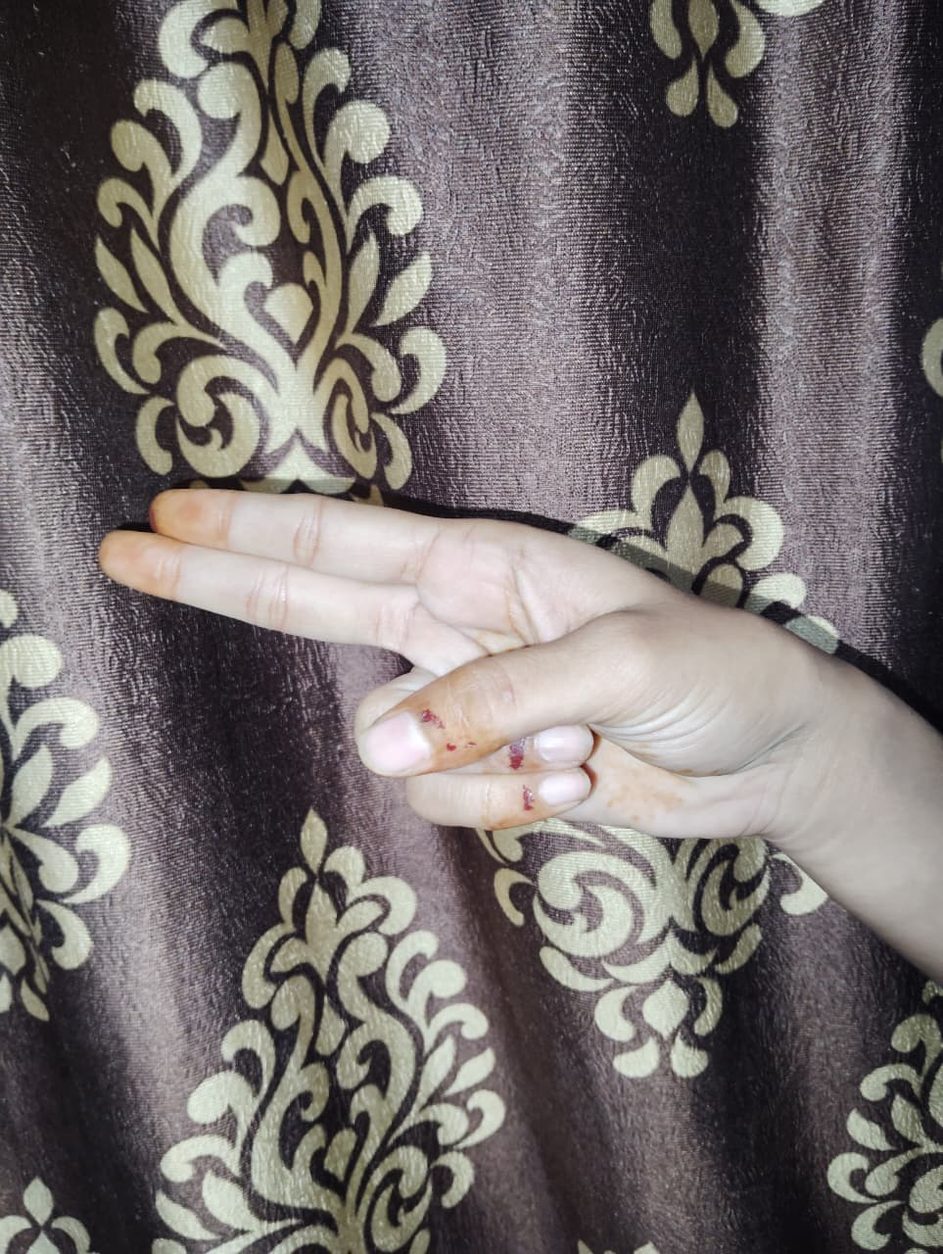H: (97, 490, 782, 844)
